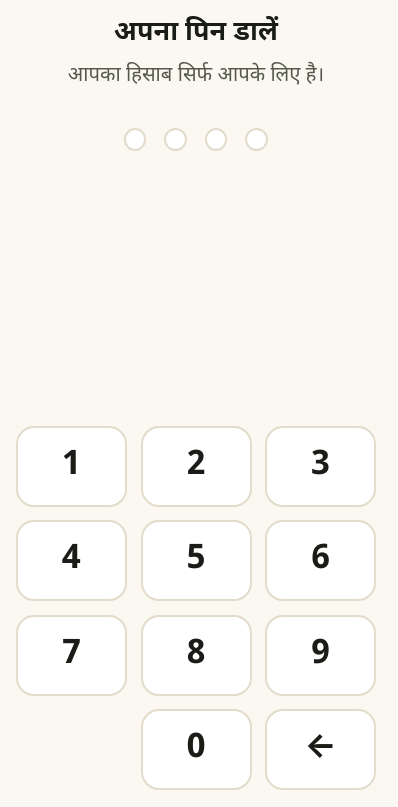
the lock › refuses a wrong PIN and keeps the app shut
Check: the heading "अपना पिन डालें" is shown, box x1=114 y1=16 x2=278 y2=52
What coordinates should you click on to do the following:
click the button "9"
I would click on:
 (320, 655)
Its box is x1=265 y1=614 x2=376 y2=696.
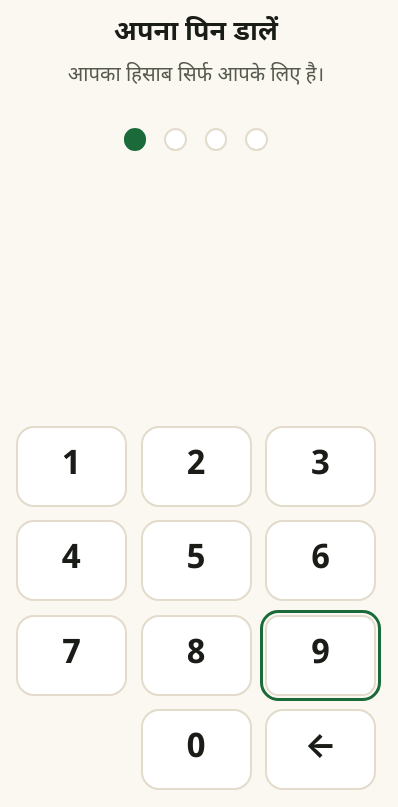
What coordinates should you click on to do the following:
click the button "9"
I would click on:
 (320, 655)
Its box is x1=265 y1=614 x2=376 y2=696.
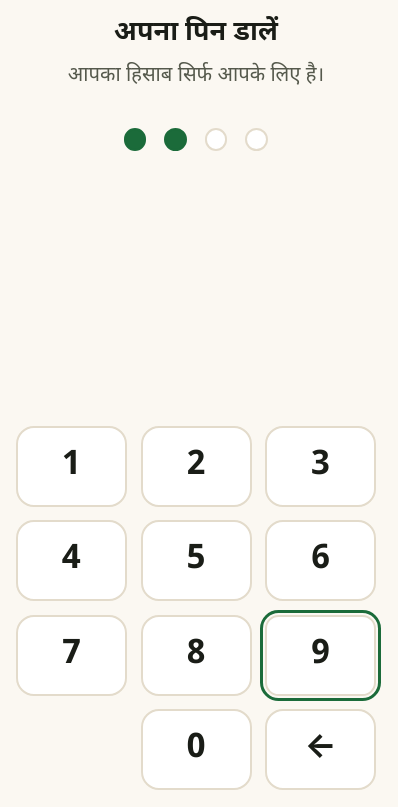
What coordinates should you click on to do the following:
click the button "9"
I would click on:
 (320, 655)
Its box is x1=265 y1=614 x2=376 y2=696.
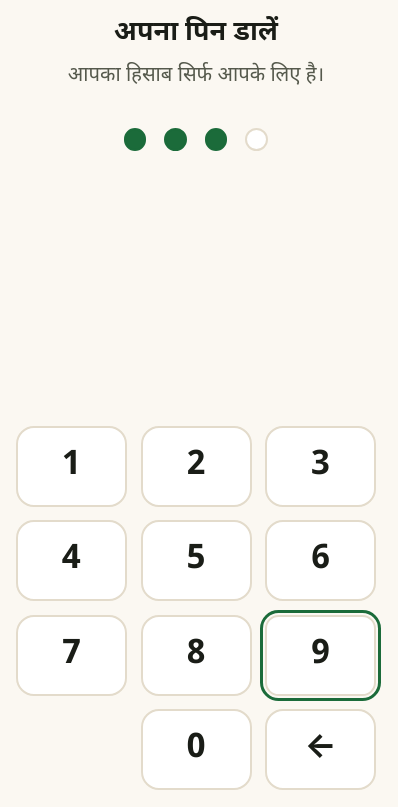
What coordinates should you click on to do the following:
click the button "9"
I would click on:
 (320, 655)
Its box is x1=265 y1=614 x2=376 y2=696.
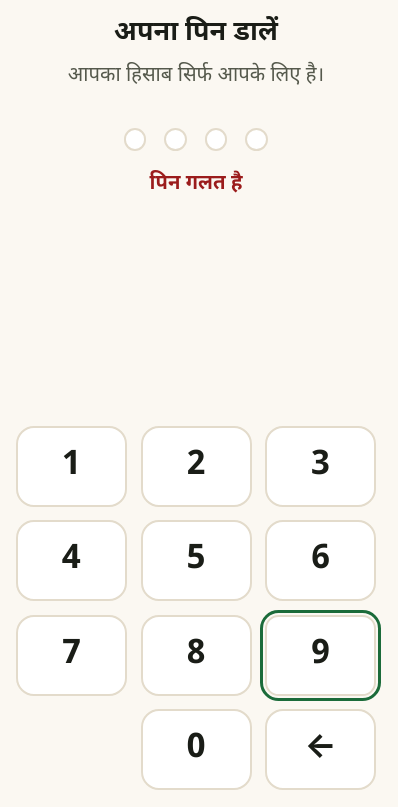
Check: the message "पिन गलत है" is shown, box x1=150 y1=169 x2=242 y2=200
